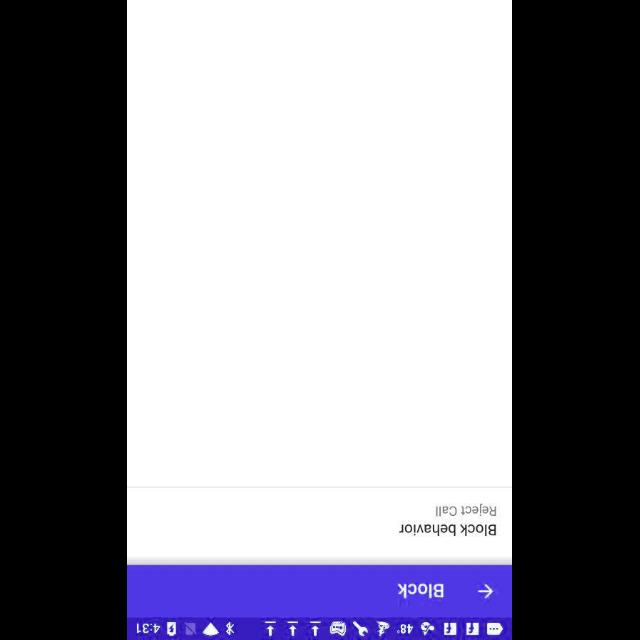icon: (478, 582, 494, 598)
text: (399, 523, 496, 535), (437, 502, 498, 516), (398, 582, 444, 598)
toolbar: (128, 564, 512, 616)
uppertaskbar: (128, 617, 512, 639)
